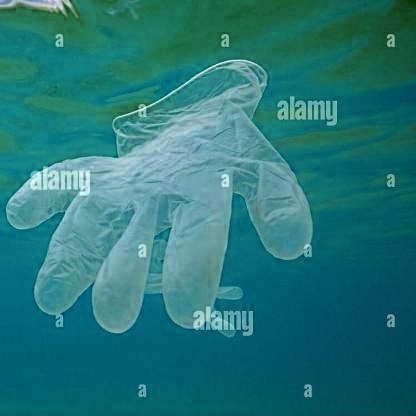glove: (9, 55, 314, 341)
